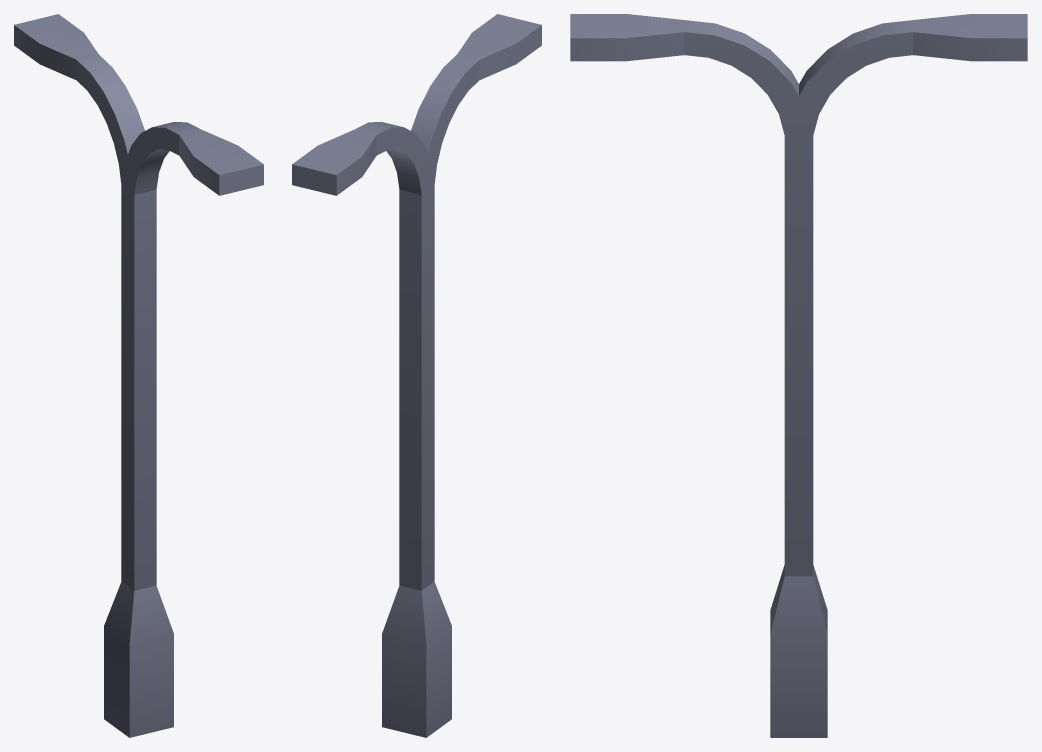
File: rd-light-double.glb
The picture shows the model from 3 angles, left to right: view 1: azimuth 30°, elevation 25°; view 2: azimuth 150°, elevation 25°; view 3: azimuth 270°, elevation 25°; orthographic projection. The views are drawn at different scales.
Parts seen in each view (by area): view 1: light-curved-double; view 2: light-curved-double; view 3: light-curved-double.
Part boxes in pixels (x1,y1,x2,y2): light-curved-double: [14, 14, 263, 737]; light-curved-double: [292, 14, 541, 737]; light-curved-double: [570, 14, 1027, 737].
Bounding box in the file's own units: 0.05 × 0.675 × 0.4.
Materials: 1 (1 with a texture image).
